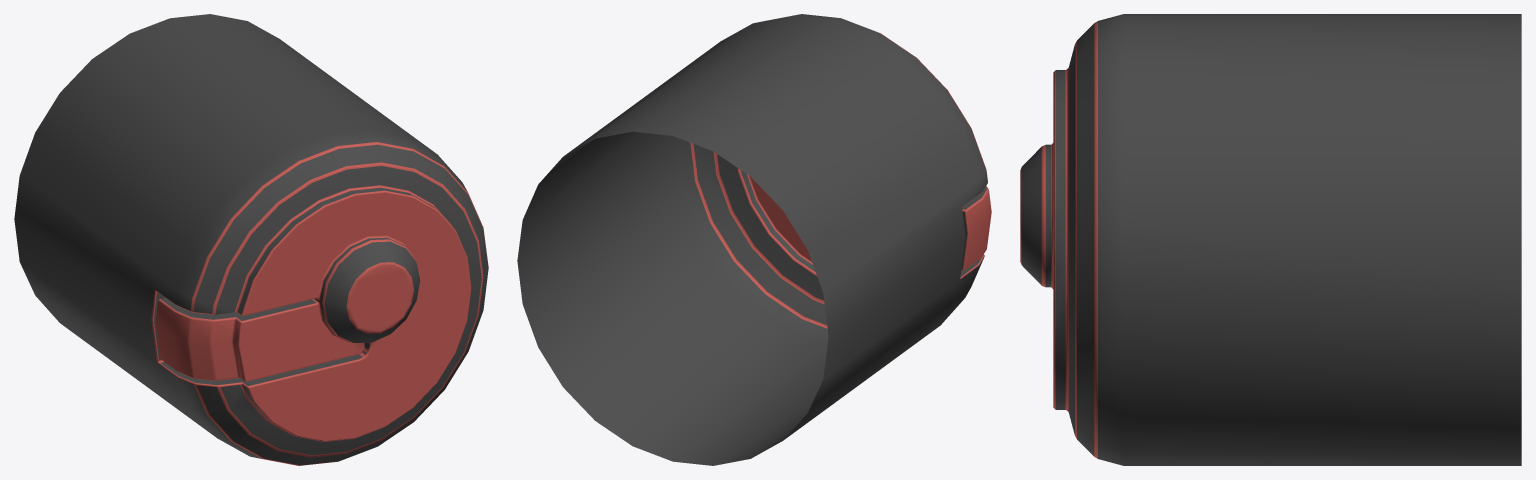
The model's file is PropCylinder.dae.
The picture shows the model from 3 angles, left to right: view 1: azimuth 30°, elevation 25°; view 2: azimuth 150°, elevation 25°; view 3: azimuth 270°, elevation 25°; orthographic projection. The views are drawn at different scales.
Parts seen in each view (by area): view 1: PropCylinder; view 2: PropCylinder; view 3: PropCylinder.
Boxes of the visible parts, x1=… form: PropCylinder: x1=14, y1=14, x2=488, y2=465; PropCylinder: x1=517, y1=14, x2=991, y2=465; PropCylinder: x1=1020, y1=14, x2=1521, y2=465.
Bounding box in the file's own units: 2 × 2.21 × 2.
